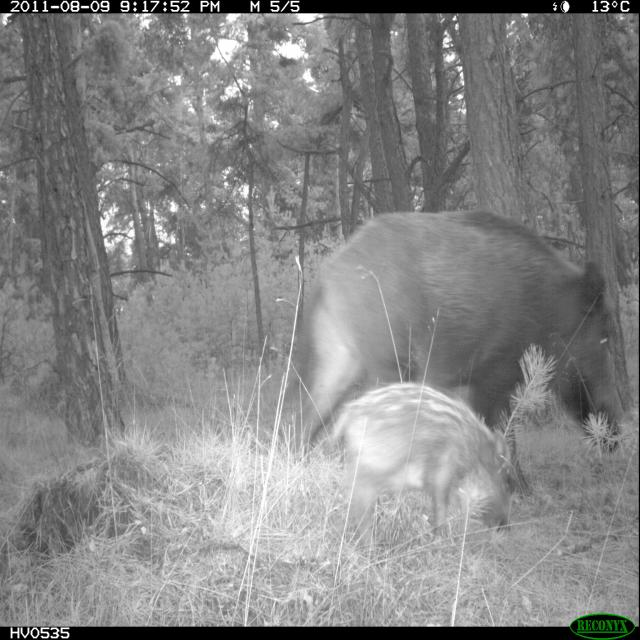boar: (307, 191, 626, 469), (301, 355, 526, 545)
